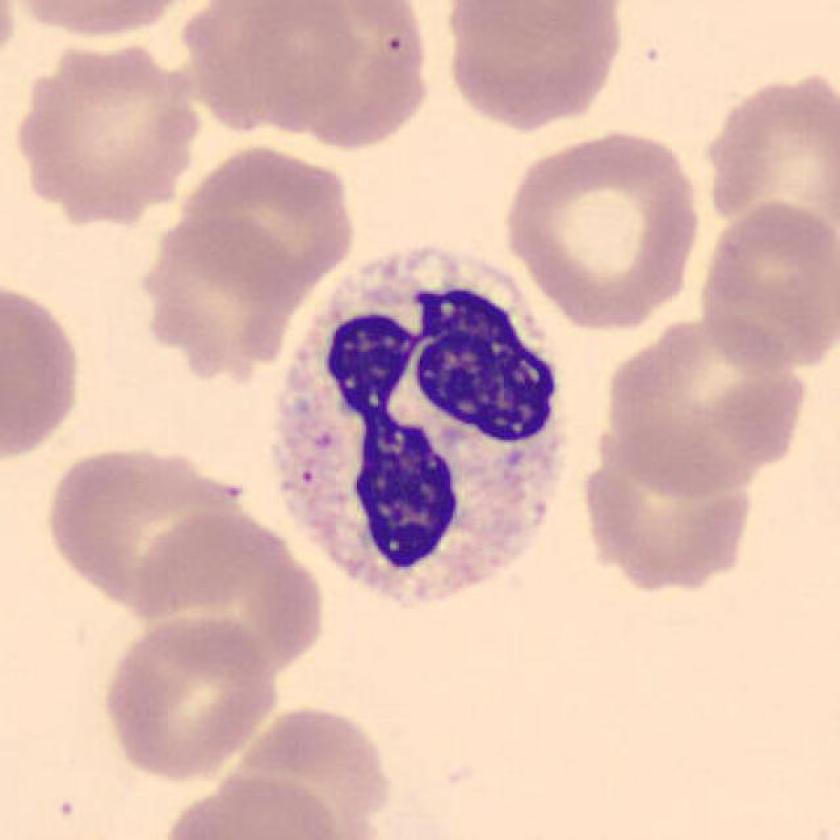neutrophil: (273, 248, 568, 602)
